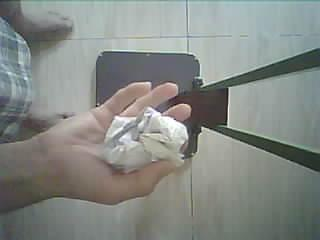paper: (104, 108, 188, 172)
